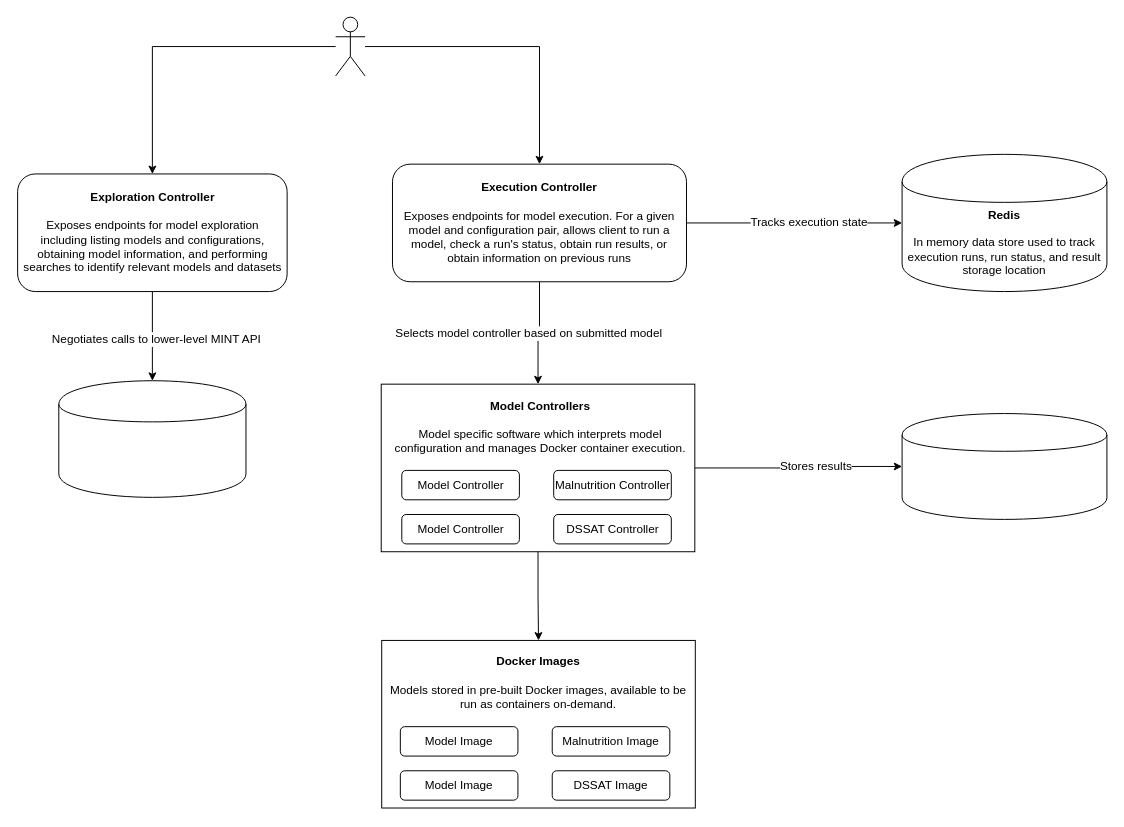
This 1124x827 diagram has some shape labels left out. The shapes that lost their labels are listed below. From the top down, each one's centre as x and y in pixels, then its label:
[350,46]: Client : server or end-user
[152,438]: MINT Low level metadata catalog for model and data information
[1004,466]: S3 Public storage for model run results
